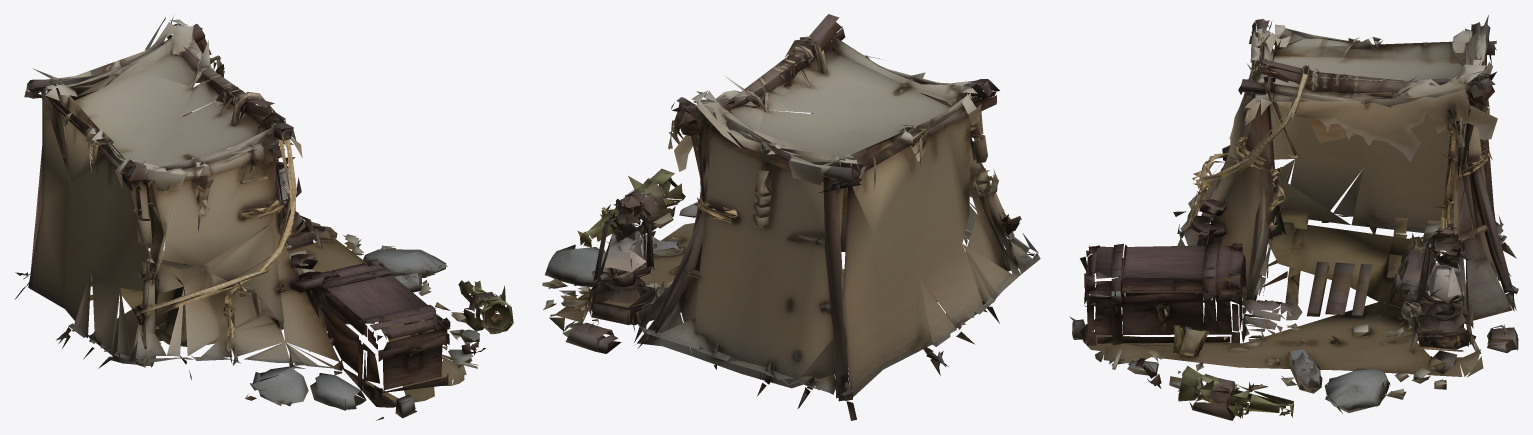
File: ch4_1890s_expedition_relics_LOD2.glb
3 renders of one model, left to right at view 1: azimuth 30°, elevation 25°; view 2: azimuth 150°, elevation 25°; view 3: azimuth 270°, elevation 25°, orthographic. The views are drawn at different scales.
Visible parts, largest first — view 1: tripo_node_3d1a29e7-ccef-40ac-9436-c12024c8dad5; view 2: tripo_node_3d1a29e7-ccef-40ac-9436-c12024c8dad5; view 3: tripo_node_3d1a29e7-ccef-40ac-9436-c12024c8dad5.
Boxes of the visible parts, x1=… form: tripo_node_3d1a29e7-ccef-40ac-9436-c12024c8dad5: x1=14, y1=16, x2=513, y2=420; tripo_node_3d1a29e7-ccef-40ac-9436-c12024c8dad5: x1=542, y1=14, x2=1040, y2=420; tripo_node_3d1a29e7-ccef-40ac-9436-c12024c8dad5: x1=1069, y1=15, x2=1518, y2=420.
Size of the model in its own units: 0.991 by 0.634 by 0.9998.
1 material, 1 textured.
